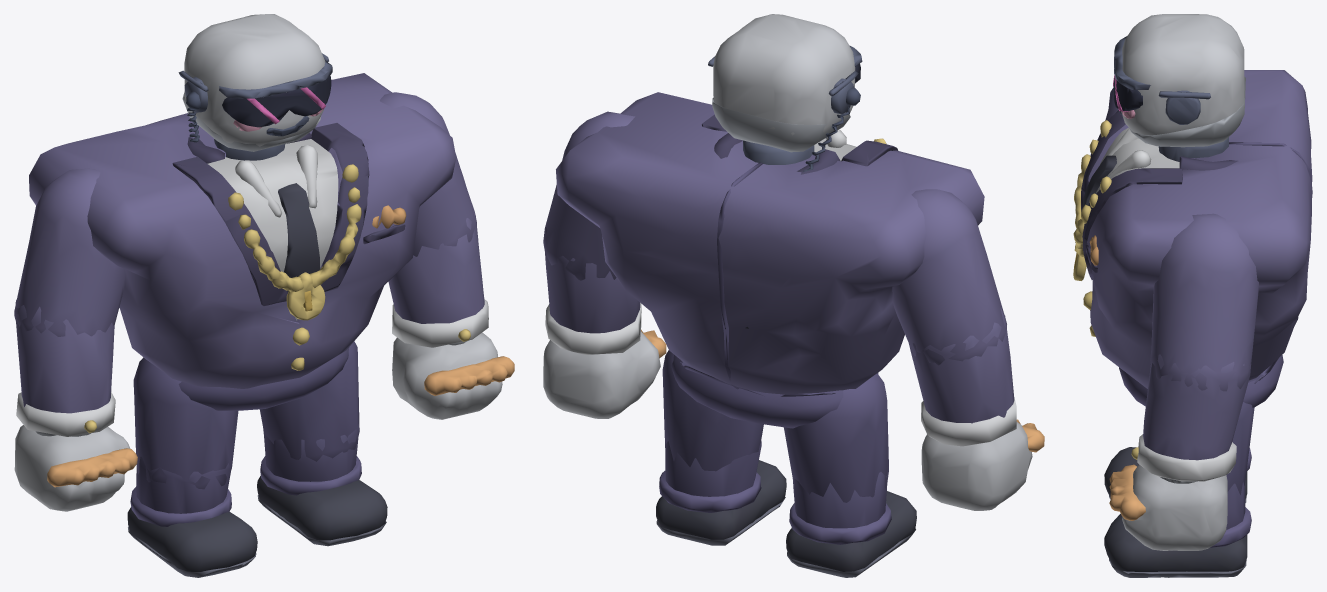
The model's file is bouncer.glb.
3 renders of one model, left to right at view 1: azimuth 30°, elevation 25°; view 2: azimuth 150°, elevation 25°; view 3: azimuth 270°, elevation 25°, orthographic.
Visible parts, largest first — view 1: torso, fore_r, fore_l, head, arm_r, shin_r, shin_l, leg_r, leg_l, chain, arm_l, shades (+2 smaller); view 2: torso, head, fore_r, fore_l, arm_r, shin_r, shin_l, leg_r, leg_l, arm_l; view 3: torso, fore_l, arm_l, head, shin_l, chain, shades, leg_l, knuck_l_glow, shin_r.
Boxes of the visible parts, left/top/right/bottom form: torso: left=29, top=73, right=456, bottom=410; fore_r: left=14, top=300, right=130, bottom=511; fore_l: left=388, top=211, right=502, bottom=419; head: left=182, top=14, right=325, bottom=151; arm_r: left=14, top=168, right=124, bottom=336; shin_r: left=127, top=456, right=257, bottom=577; shin_l: left=257, top=424, right=387, bottom=546; leg_r: left=133, top=357, right=238, bottom=489; leg_l: left=259, top=341, right=359, bottom=461; chain: left=228, top=164, right=361, bottom=320; arm_l: left=380, top=92, right=476, bottom=256; shades: left=178, top=53, right=332, bottom=127; torso: left=556, top=92, right=984, bottom=428; head: left=712, top=14, right=860, bottom=171; fore_r: left=909, top=308, right=1032, bottom=510; fore_l: left=543, top=226, right=660, bottom=418; arm_r: left=892, top=189, right=1006, bottom=365; shin_r: left=786, top=466, right=916, bottom=577; shin_l: left=656, top=438, right=786, bottom=545; leg_r: left=784, top=373, right=888, bottom=502; leg_l: left=662, top=350, right=763, bottom=471; arm_l: left=543, top=111, right=635, bottom=280; torso: left=1081, top=70, right=1312, bottom=407; fore_l: left=1122, top=354, right=1251, bottom=550; arm_l: left=1150, top=213, right=1258, bottom=391; head: left=1118, top=14, right=1245, bottom=147; shin_l: left=1104, top=482, right=1251, bottom=577; chain: left=1073, top=120, right=1111, bottom=280; shades: left=1113, top=36, right=1210, bottom=110; leg_l: left=1226, top=402, right=1254, bottom=494; knuck_l_glow: left=1109, top=464, right=1145, bottom=520; shin_r: left=1104, top=447, right=1251, bottom=502.
Bounding box in the file's own units: 1.5 × 1.56 × 0.6715.
